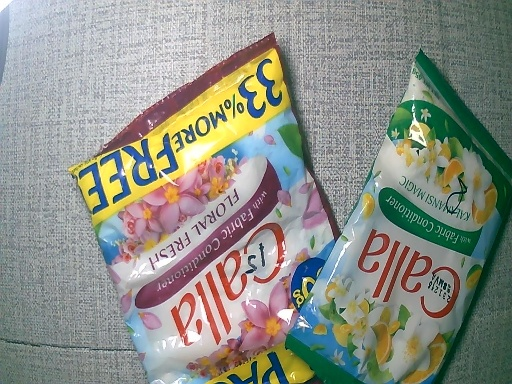plastic: (67, 26, 341, 384), (287, 48, 509, 384)
